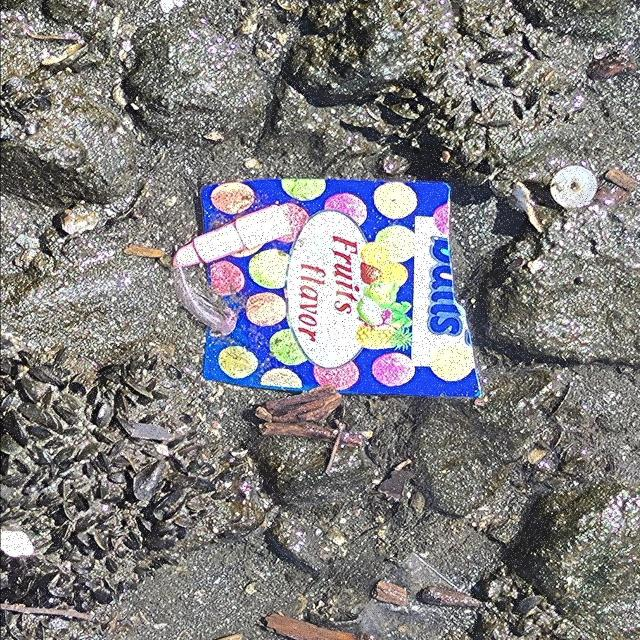plastic_waste: (200, 180, 485, 400)
